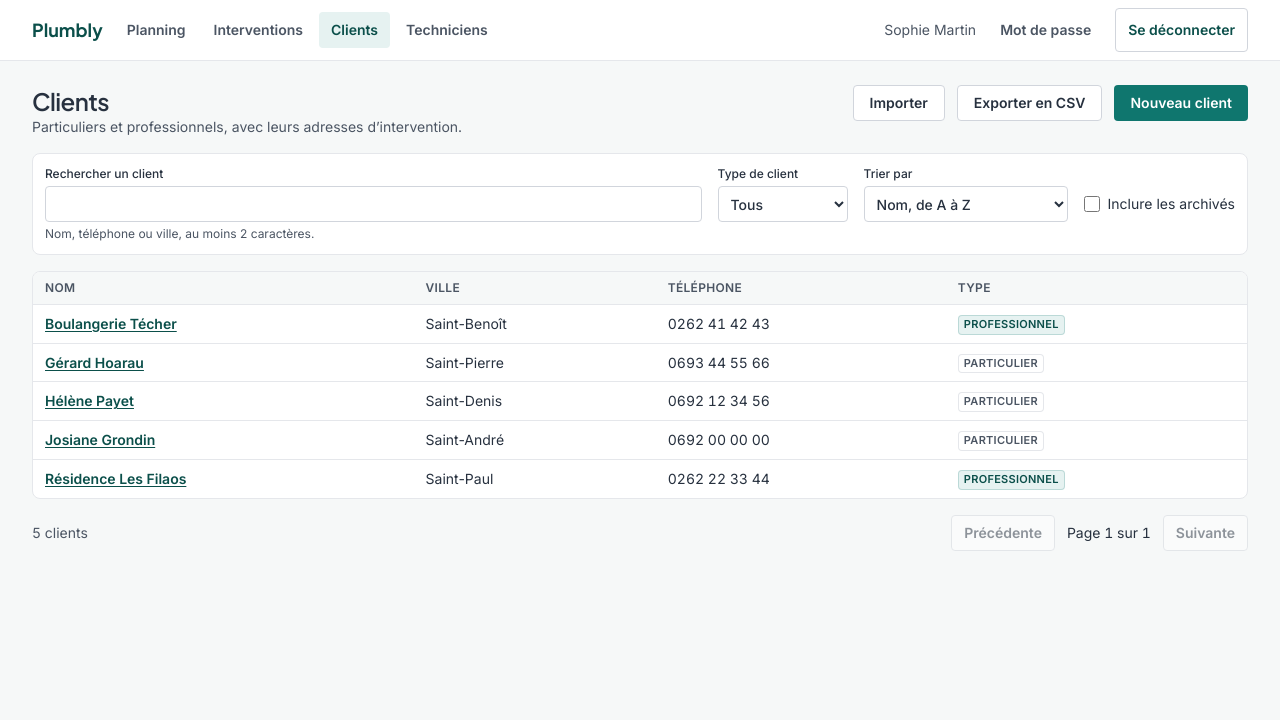
écrans clients dans l’application (US08, US09) › US09 : un clic sur un client ouvre sa fiche sans recharger la page
Click the link "Hélène Payet".
click(90, 401)  # box [45,392,134,409]
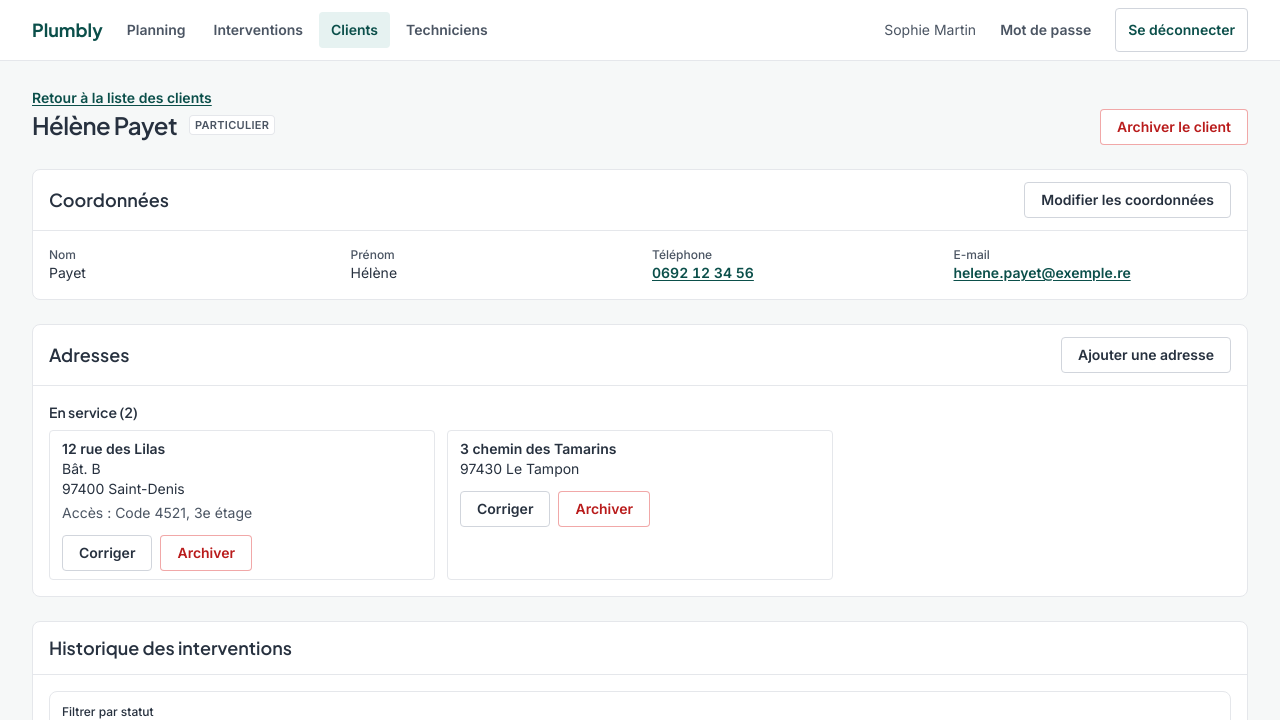
Expected: the heading "Hélène Payet" is shown, [32,109,177,141]
Expected: the heading "Coordonnées" is shown, [49,186,169,214]
